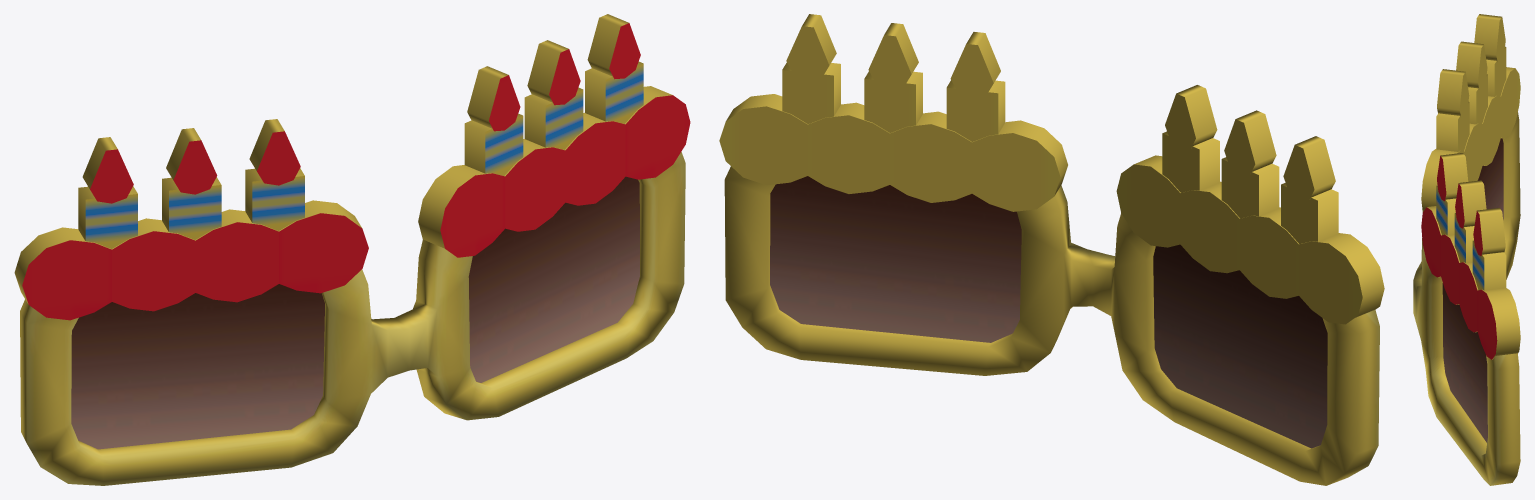
File: AccessoryGlassBirthday0.glb
The picture shows the model from 3 angles, left to right: view 1: azimuth 30°, elevation 25°; view 2: azimuth 150°, elevation 25°; view 3: azimuth 270°, elevation 25°; orthographic projection. The views are drawn at different scales.
Parts seen in each view (by area): view 1: Accessory__mAccessory, AccessoryAlpha1__mAccessoryAlpha; view 2: Accessory__mAccessory, AccessoryAlpha1__mAccessoryAlpha; view 3: Accessory__mAccessory, AccessoryAlpha1__mAccessoryAlpha.
Boxes of the visible parts, x1,y1,x2,y2 form: Accessory__mAccessory: (14,14,690,485); AccessoryAlpha1__mAccessoryAlpha: (71,176,639,449); Accessory__mAccessory: (719,14,1384,485); AccessoryAlpha1__mAccessoryAlpha: (770,176,1327,448); Accessory__mAccessory: (1413,14,1520,485); AccessoryAlpha1__mAccessoryAlpha: (1442,138,1503,442).
Bounding box in the file's own units: 5.81 × 2.8 × 1.03.
2 materials, 2 textured.
